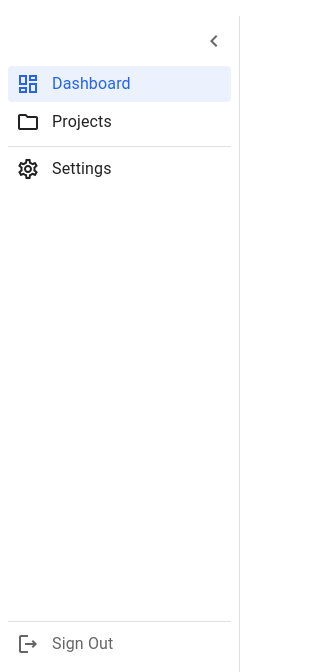
Test: AppSidebar › hides labels when collapsed and shows them when expanded
The image size is (320, 672).
Expected: the text "Dashboard" is shown, [52,74,131,93]
# Click toggle to collapse
Click the button named "collapse sidebar" at (214,41), box [197,24,231,58]
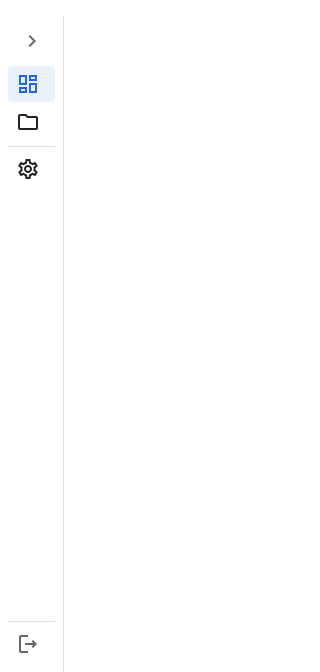
Now the link "Dashboard" is gone
